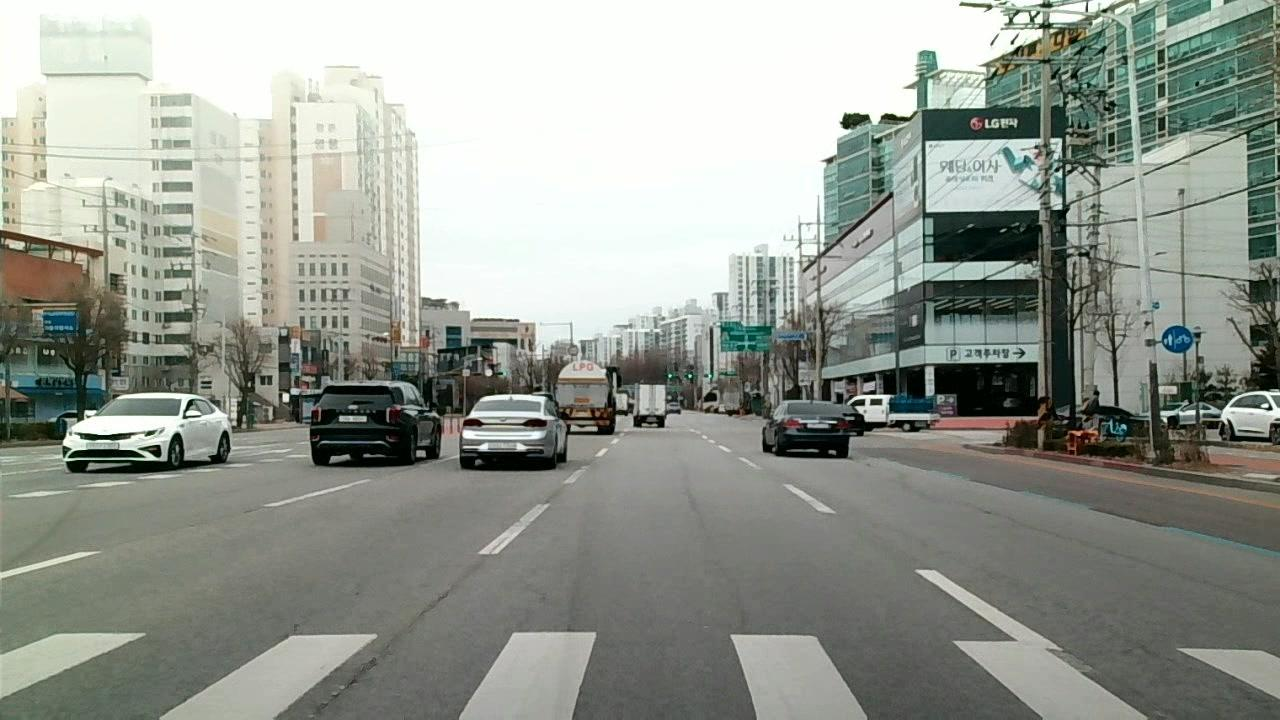vcrack: (312, 617, 420, 719), (1055, 532, 1155, 569), (427, 554, 489, 612), (1171, 571, 1278, 604), (972, 504, 1051, 535)
